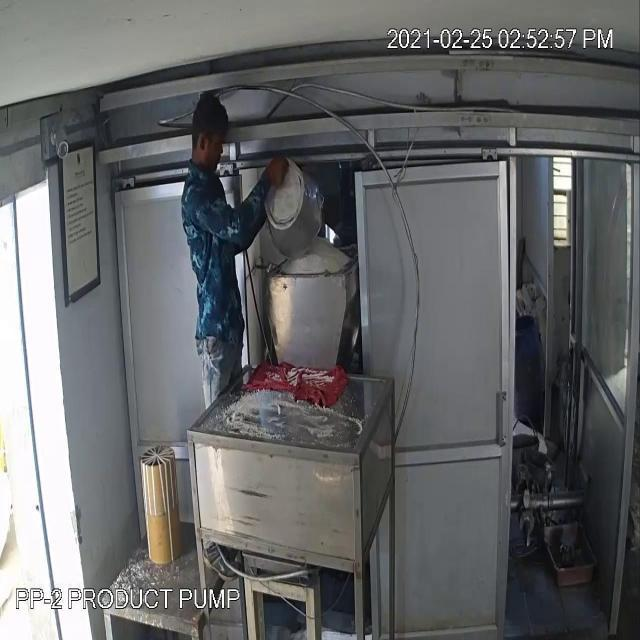no hat: (186, 88, 232, 154)
